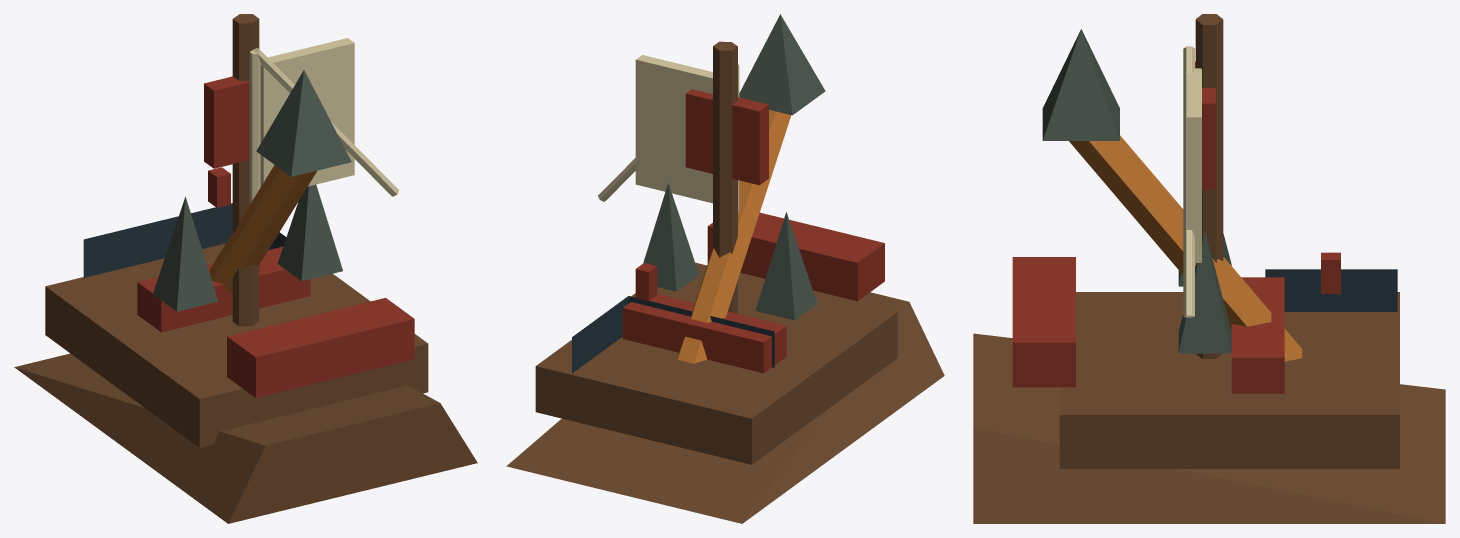
The model's file is naval-siege-ship.obj.
3 views of the same model, side by side, from view 1: azimuth 30°, elevation 25°; view 2: azimuth 150°, elevation 25°; view 3: azimuth 270°, elevation 25° (orthographic). The views are drawn at different scales.
Parts seen in each view (by area): view 1: ship; view 2: ship; view 3: ship.
Part boxes in pixels (left/top/right/bottom): ship: left=14, top=14, right=477, bottom=523; ship: left=506, top=14, right=944, bottom=523; ship: left=973, top=14, right=1445, bottom=523.
Bounding box in the file's own units: 1.54 × 2.18 × 2.14.
